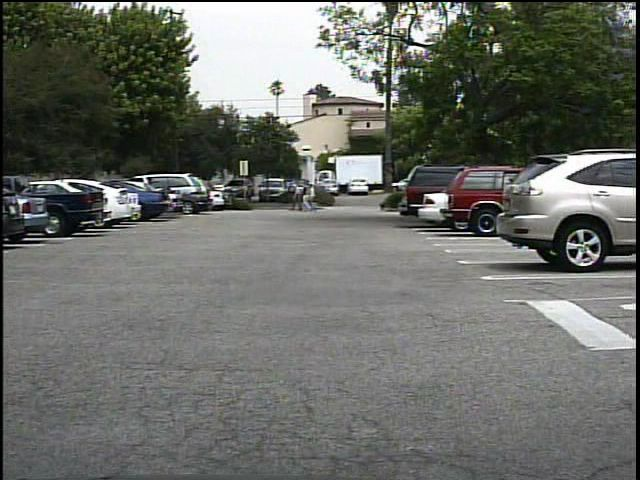person: (304, 184, 323, 215), (290, 185, 305, 215), (300, 186, 314, 216)
